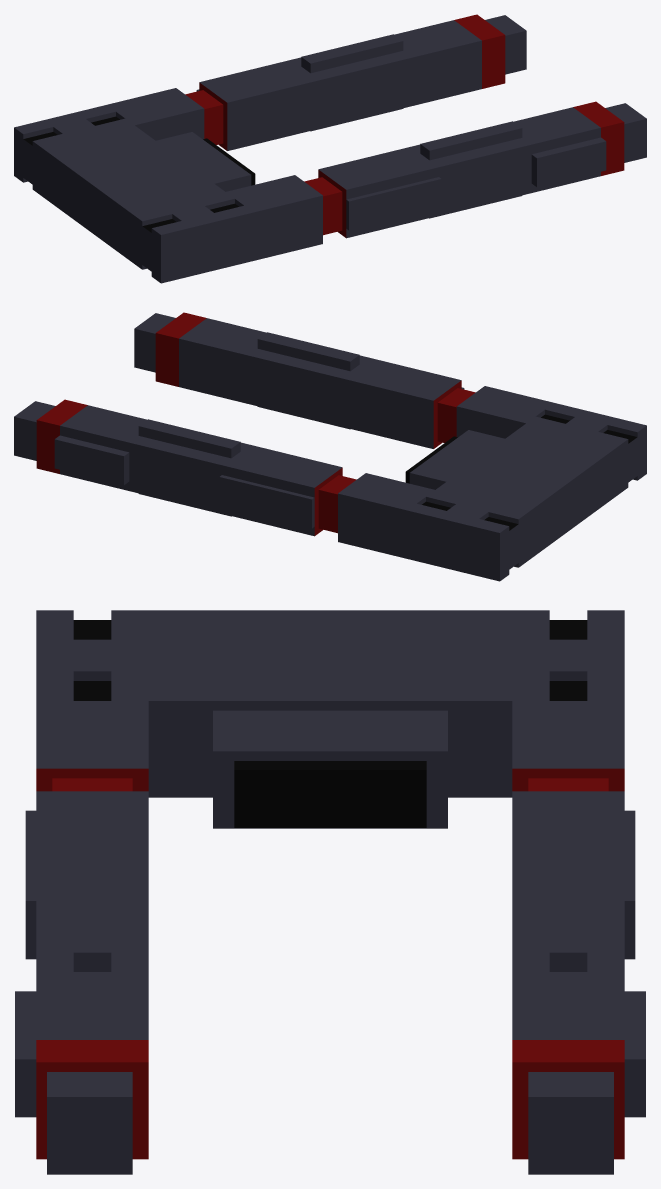
File: spacecraft.glb
3 renders of one model, top to bottom at view 1: azimuth 30°, elevation 25°; view 2: azimuth 150°, elevation 25°; view 3: azimuth 270°, elevation 25°, orthographic. The views are drawn at different scales.
Visible parts, largest first — view 1: Plane; view 2: Plane; view 3: Plane.
Boxes of the visible parts, x1,y1,x2,y2 form: Plane: [14, 14, 646, 283]; Plane: [14, 312, 646, 581]; Plane: [15, 610, 645, 1174].
Size of the model in its own units: 211 by 28 by 118.
Materials: 1 (1 with a texture image).
